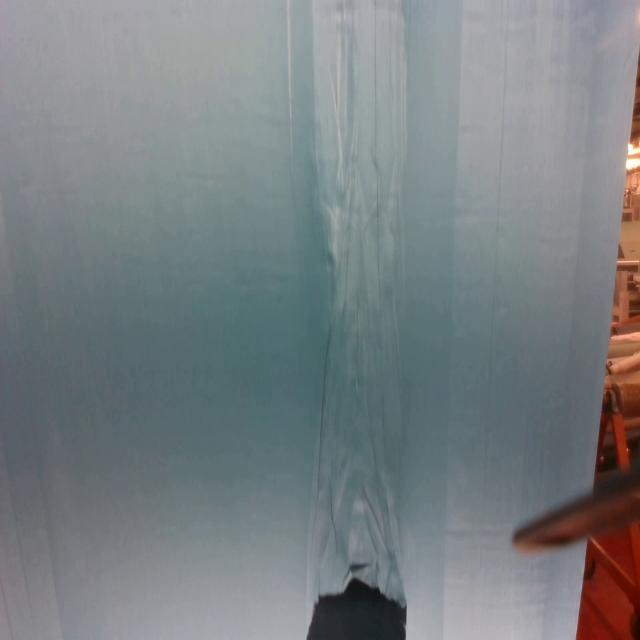crease: (485, 1, 514, 513), (316, 323, 332, 518), (374, 1, 384, 304), (286, 0, 295, 167)
hole: (302, 575, 407, 640)
